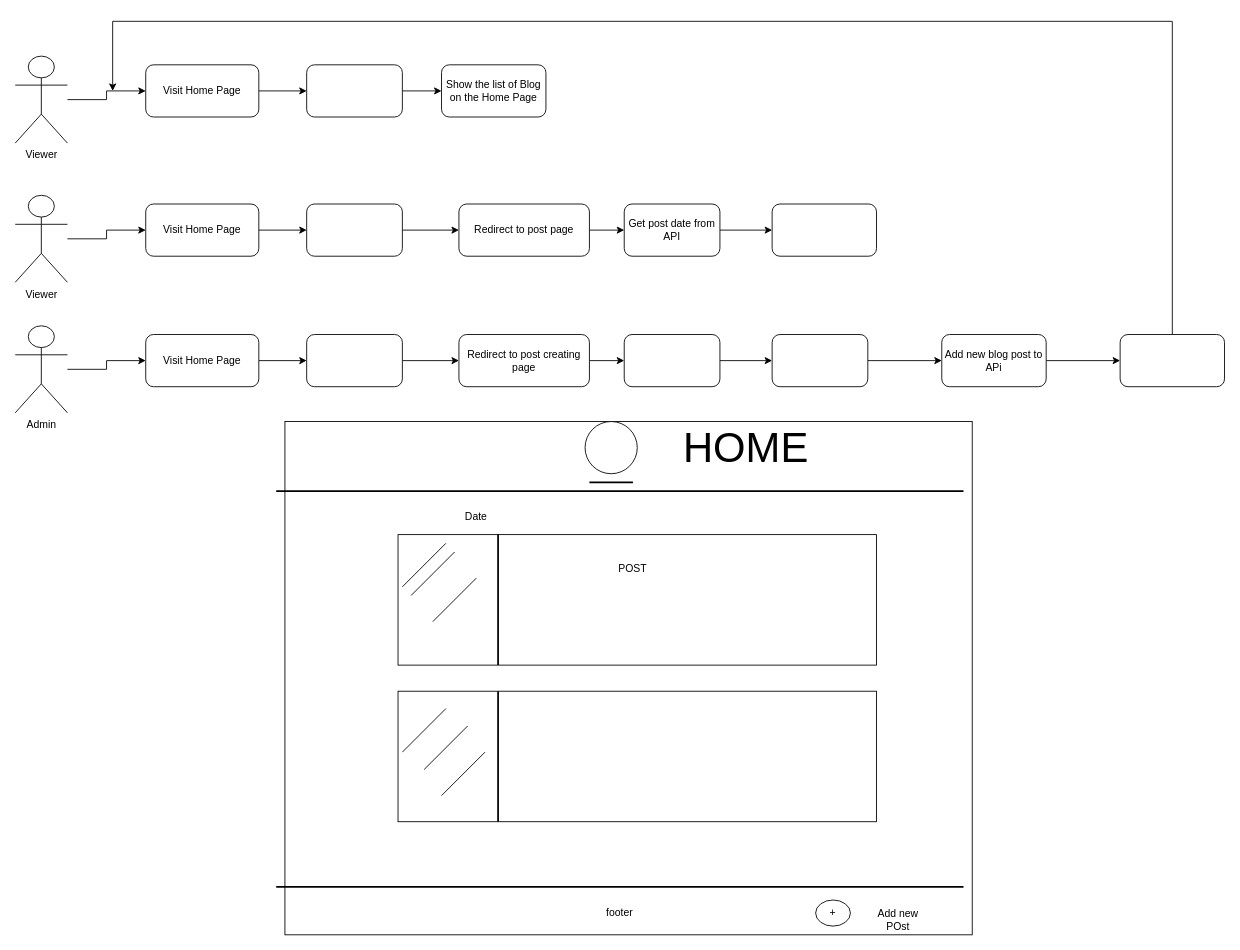
Image size: 1240x950. Some labels were removed from this diagram. The shapes that lost their labels are listed below. From the top down, each one's centre as x and y in pixels, then its label:
the point at 354,90: Get List of Blog posts from API
the point at 354,229: Select individual Blog Post
the point at 824,229: Show full Blog post
the point at 354,360: Click "add new" post button
the point at 671,360: Add title, text and image
the point at 819,360: click Submit
the point at 1172,360: Redirect to Home page
